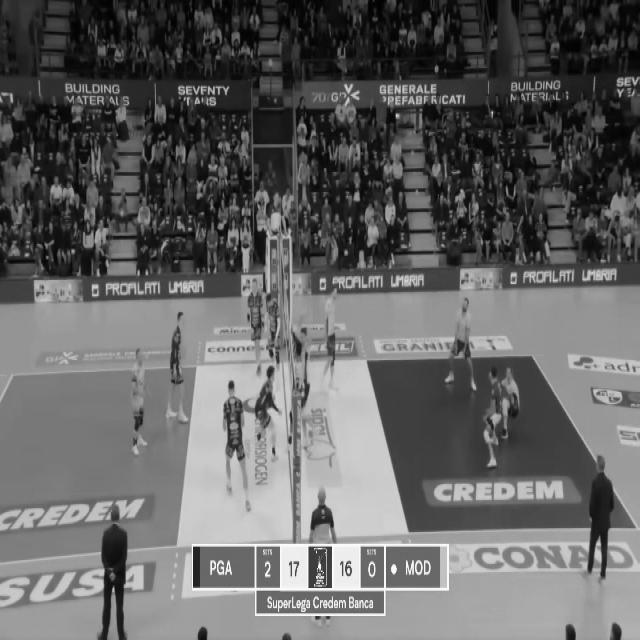volleyball court: (0, 356, 636, 565)
